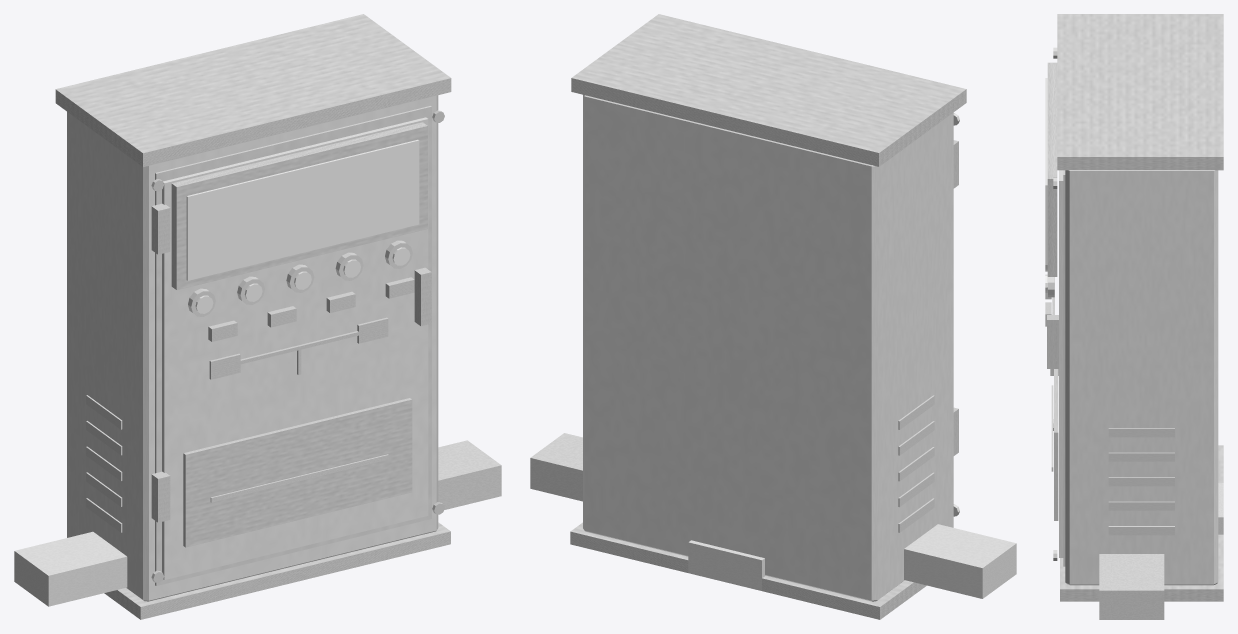
Rendered from wallats.obj.
3 renders of one model, left to right at view 1: azimuth 30°, elevation 25°; view 2: azimuth 150°, elevation 25°; view 3: azimuth 270°, elevation 25°, orthographic. The views are drawn at different scales.
Parts seen in each view (by area): view 1: Case, Trim, Display, Vents, Mains, Output; view 2: Case, Trim, Mains, Output, Backup, Vents; view 3: Case, Trim, Vents, Output, Display, Backup.
Boxes of the visible parts, <box> form: Case: <box>67,95,438,601</box>; Trim: <box>55,14,451,619</box>; Display: <box>186,139,419,280</box>; Vents: <box>86,106,431,585</box>; Mains: <box>14,531,127,606</box>; Output: <box>438,440,501,509</box>; Case: <box>583,95,953,601</box>; Trim: <box>570,14,966,619</box>; Mains: <box>904,524,1016,598</box>; Output: <box>530,433,582,501</box>; Backup: <box>688,540,765,590</box>; Vents: <box>898,395,934,532</box>; Case: <box>1059,170,1218,585</box>; Trim: <box>1045,14,1223,601</box>; Vents: <box>1048,170,1174,566</box>; Output: <box>1099,554,1164,619</box>; Display: <box>1045,78,1047,264</box>; Backup: <box>1218,483,1223,534</box>.
Size of the model in its own units: 0.92 by 0.907 by 0.33.
